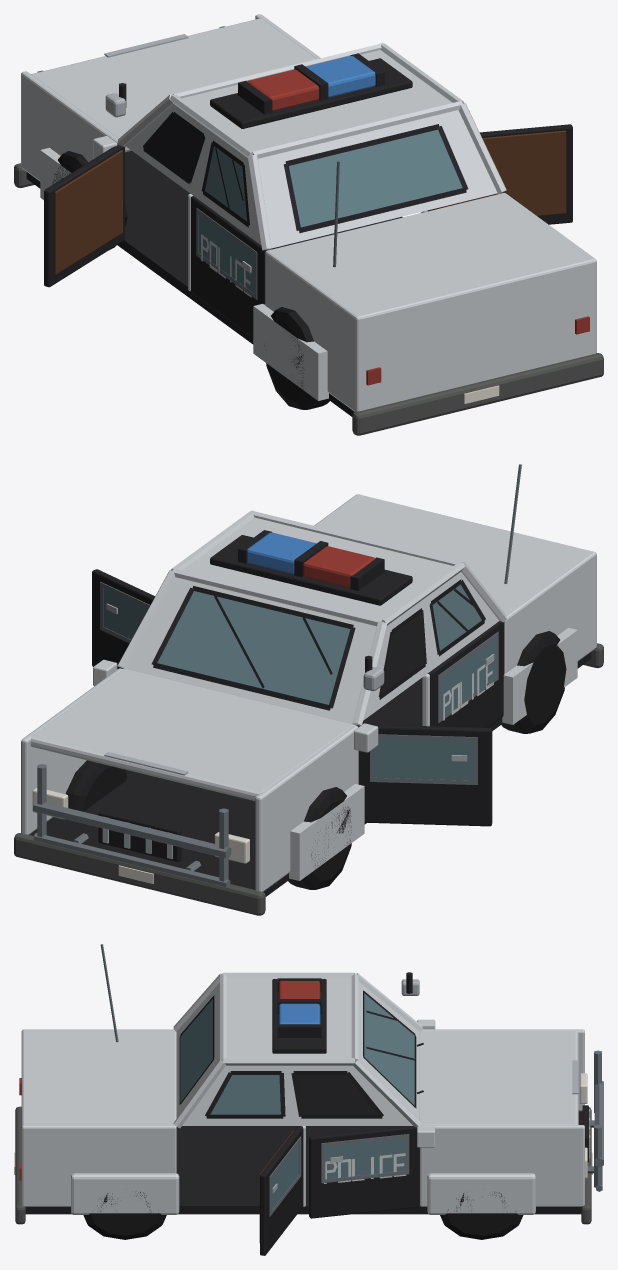
The model's file is police_car_wreck.glb.
3 renders of one model, top to bottom at view 1: azimuth 30°, elevation 25°; view 2: azimuth 150°, elevation 25°; view 3: azimuth 270°, elevation 25°, orthographic. The views are drawn at different scales.
Visible parts, largest first — view 1: police_car_wreck; view 2: police_car_wreck; view 3: police_car_wreck.
Boxes of the visible parts, x1=… form: police_car_wreck: x1=14, y1=14, x2=603, y2=435; police_car_wreck: x1=14, y1=464, x2=603, y2=915; police_car_wreck: x1=14, y1=944, x2=603, y2=1255.
Size of what is drawn, in the model's own units: 3.46 by 1.77 by 4.57.
Materials: 2 (2 with a texture image).
